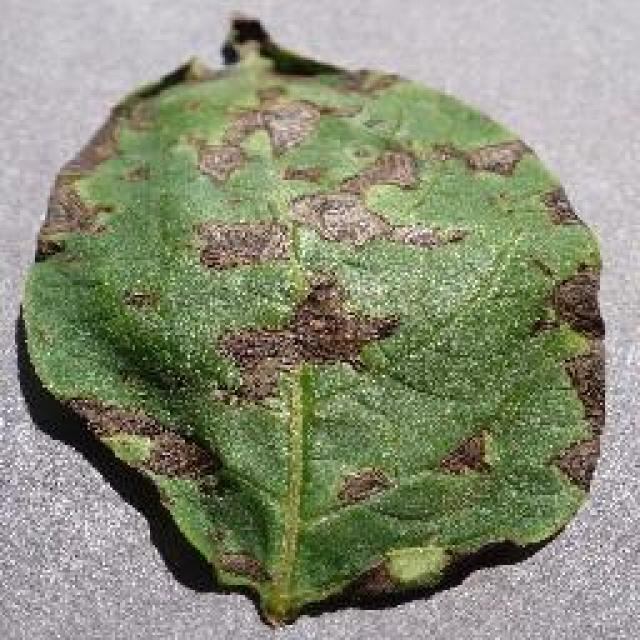Potato: (17, 12, 605, 628)
